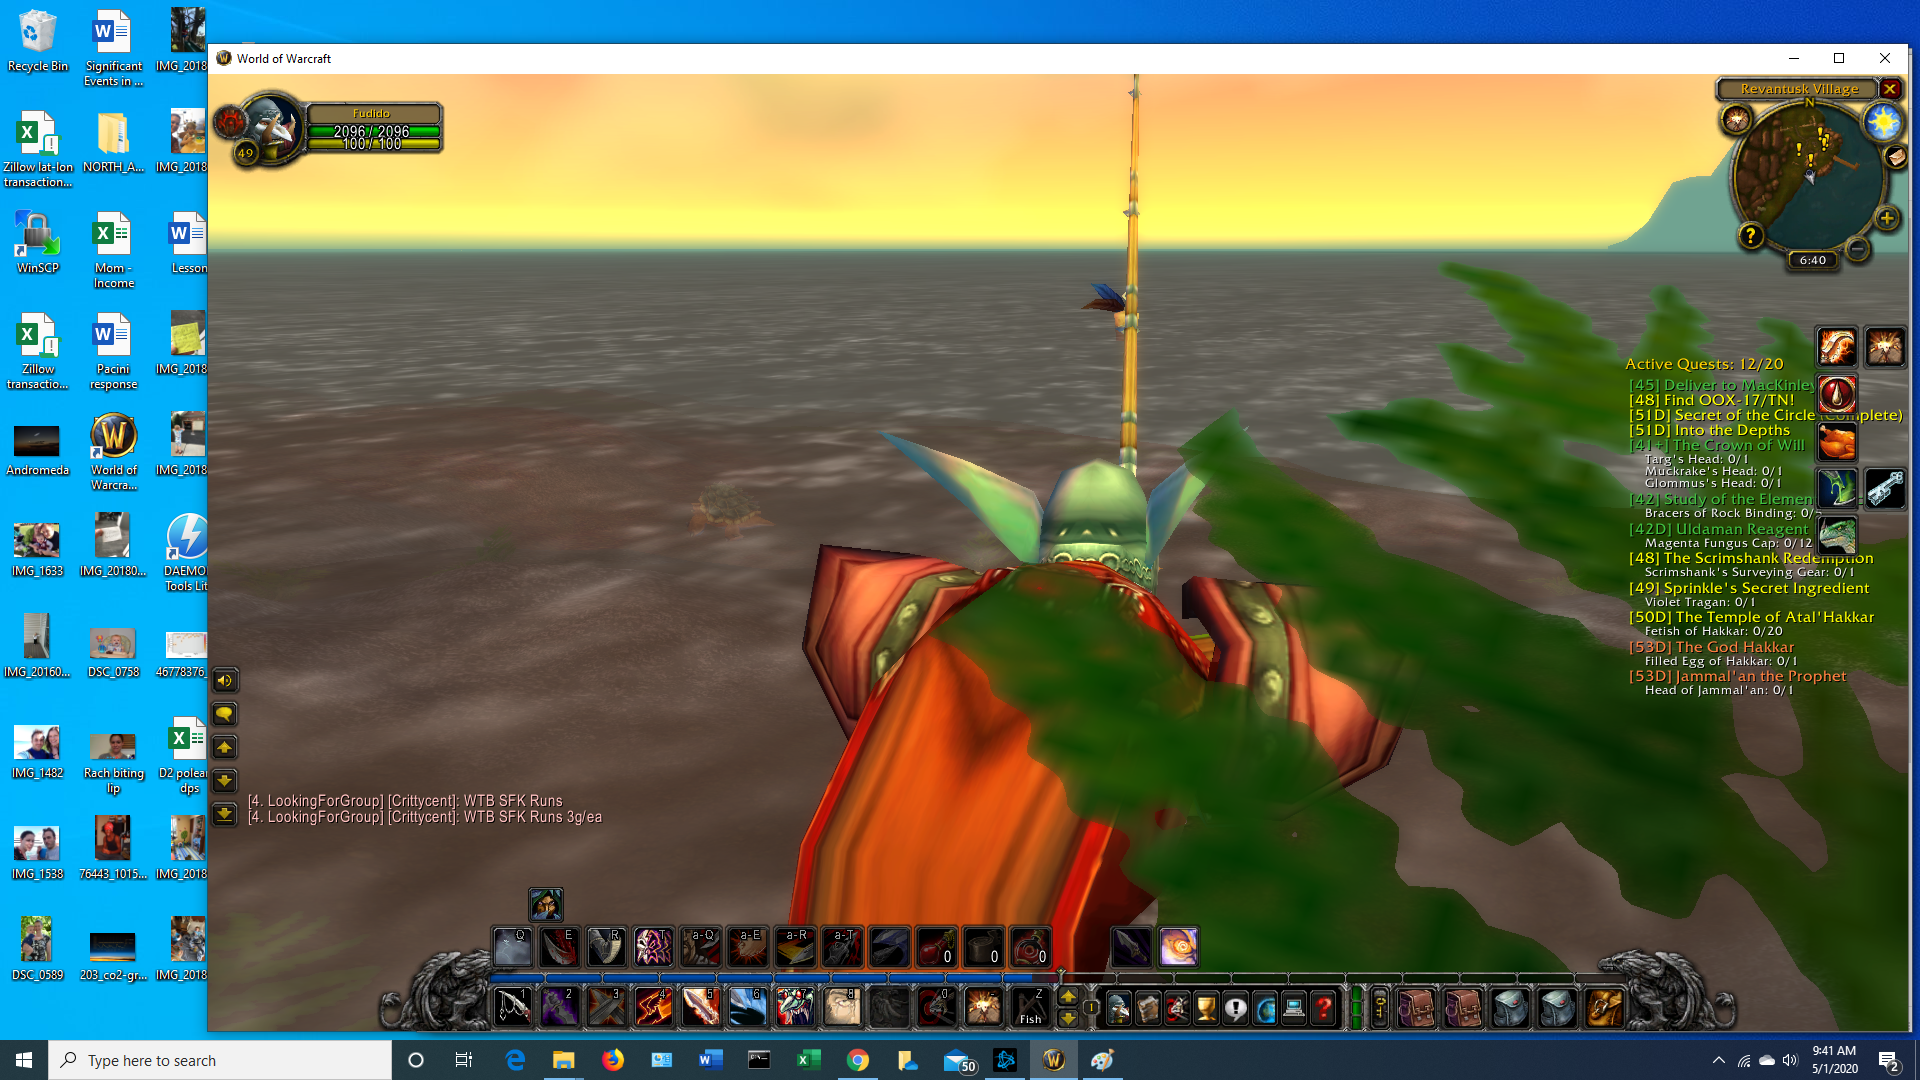bobble: (1080, 276, 1145, 340)
